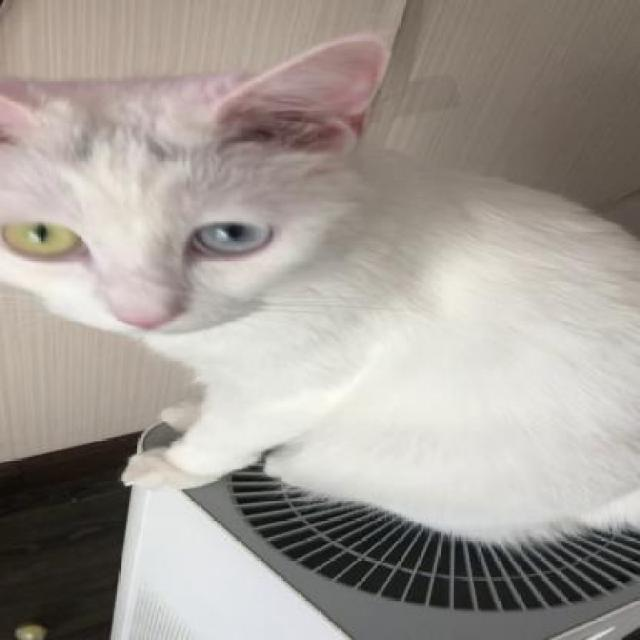cat-face: (0, 64, 362, 333)
